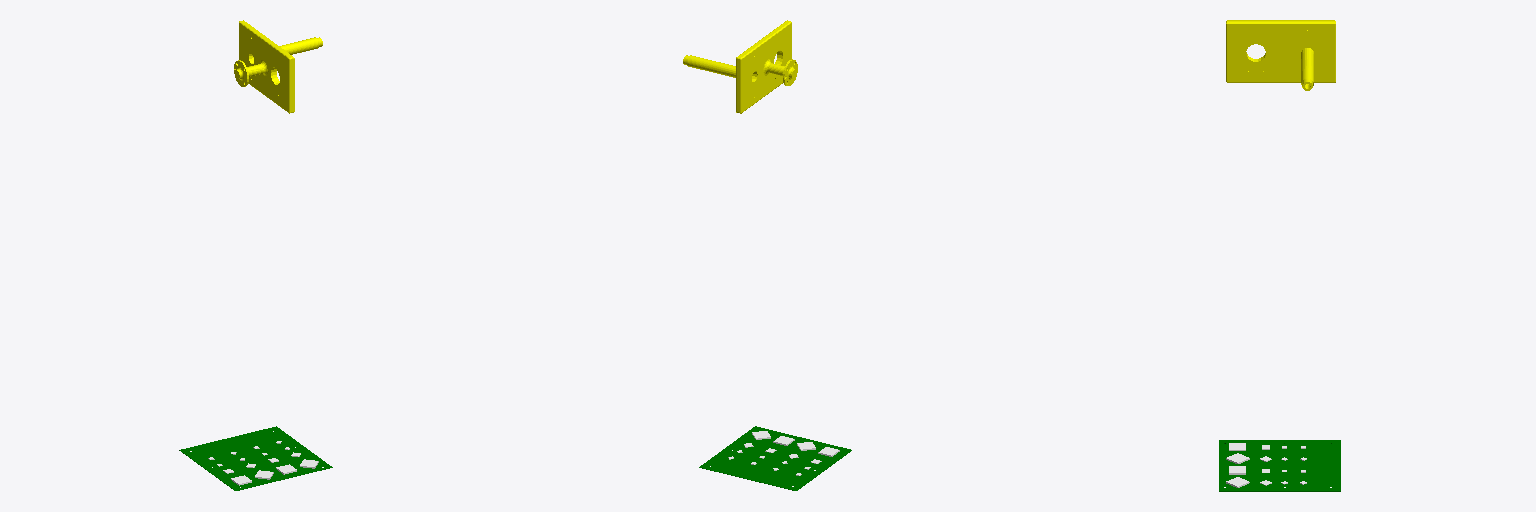
--- Facts derived from the render (not from the file) ---
The picture shows the robot from 3 angles, left to right: view 1: azimuth 30°, elevation 25°; view 2: azimuth 150°, elevation 25°; view 3: azimuth 270°, elevation 25°; orthographic projection.
Model abb_irb120 with 29 links and 28 joints (6 revolute, 22 fixed), rooted at world, posed all joints at 0.
Visible links, largest first — view 1: PCB, end_effector; view 2: PCB, end_effector; view 3: end_effector, PCB.
Link boxes in pixels (x1,y1,x2,y2): PCB: [179, 426, 332, 490]; end_effector: [234, 20, 322, 113]; PCB: [699, 426, 851, 490]; end_effector: [683, 20, 797, 113]; end_effector: [1226, 20, 1335, 90]; PCB: [1219, 440, 1340, 491].
Size in the robot's own frame: 0.2136 by 0.1651 by 0.6744 metres.
Meshes: 26 distinct files referenced, 18 mesh visuals loaded (18 binary STL); not drawn: 8 (reference not matched to a file when rendering).

URDF robot description (abb_irb120):
<?xml version="1.0" ?>
<!-- =================================================================================== -->
<!-- |    This document was autogenerated by xacro from irb120.xacro                   | -->
<!-- |    EDITING THIS FILE BY HAND IS NOT RECOMMENDED                                 | -->
<!-- =================================================================================== -->
<robot name="abb_irb120" xmlns:xacro="http://ros.org/wiki/xacro">
  <!--  <xacro:include filename="$(find irb120_description)/urdf/common_colors.xacro"/> -->
  <!-- Conversion were obtained from http://www.e-paint.co.uk/Lab_values.asp
       unless otherwise stated. -->
  <!-- Actual colors -->
  <!-- NCS 2070-Y60R orange, standard robot color 1974 - May 2014 -->
  <!-- RAL 7035 light grey (abb graphite white), standard robot color May 2014 - current -->
  <!-- RAL 9003 signal white (abb white), cleanroom robot color -->
  <!-- RAL 7032 pebble gray, controller -->
  <!-- RAL 7012 basalt gray (abb dark gray) , robot primer -->
  <!-- RAL 7021 black gray (abb black) , robot with dark link color -->
  <!-- Other robot colours availble, but not limited too. -->
  <!-- RAL 3001 signal red -->
  <!-- RAL 3002 carmine red -->
  <!-- RAL 5002 ultramarine blue -->
  <!-- RAL 5015 sky blue -->
  <!-- RAL 6002 leaf green -->
  <!-- RAL 9002 gray white -->
  <!-- RAL 9010 pure white -->
  <!-- approximations -->
  <!-- yellow, collision model -->
  <!-- Used for fixing robot to Gazebo 'base_link' -->
  <link name="world"/>
  <joint name="fixed" type="fixed">
    <parent link="world"/>
    <child link="base_link"/>
    <origin rpy="0 0 0" xyz="0 0 0.76"/>
  </joint>
  <!-- Description of base_link -->
  <link name="base_link">
    <inertial>
      <mass value="6.215"/>
      <origin rpy="0 0 0" xyz="0 0 0"/>
      <inertia ixx="0.0247272" ixy="-8.0784E-05" ixz="0.00130902" iyy="0.0491285" iyz="-8.0419E-06" izz="0.0472376"/>
    </inertial>
    <visual>
      <origin rpy="0 0 0" xyz="0 0 0"/>
      <geometry>
        <mesh filename="package://irb120_description/meshes/visual/base_link.stl"/>
      </geometry>
      <material name="">
        <color rgba="0.7372549 0.3490196 0.1607843 1"/>
      </material>
    </visual>
    <collision>
      <origin rpy="0 0 0" xyz="0 0 0"/>
      <geometry>
        <mesh filename="package://irb120_description/meshes/collision/base_link.stl"/>
      </geometry>
      <material name="">
        <color rgba="1 1 0 1"/>
      </material>
    </collision>
  </link>
  <joint name="base_link-Table" type="fixed">
    <parent link="base_link"/>
    <child link="Table"/>
    <origin rpy="0 0 0" xyz="0 0 0"/>
  </joint>
  <link name="Table">
    <inertial>
      <origin rpy="0 0 0" xyz="0 0 -0.06"/>
      <mass value="26.973"/>
      <inertia ixx="1.58867585086805" ixy="7.53875576876204E-16" ixz="-1.555189911135E-16" iyy="-0.00481570948189264" iyz="-3.49190034458366" izz="0.00481570948189306"/>
    </inertial>
    <visual>
      <origin rpy="0 0 0" xyz="0 0 -0.06"/>
      <geometry>
        <mesh filename="package://irb120_description/meshes/visual/Table.STL"/>
      </geometry>
      <material name="">
        <color rgba="0.3450980 0.3647059 0.3686275 1"/>
      </material>
    </visual>
    <collision>
      <origin rpy="1.5707963267949 0 0" xyz="0 0 -0.06"/>
      <geometry>
        <mesh filename="package://irb120_description/meshes/collision/Table.STL"/>
      </geometry>
      <material name="">
        <color rgba="0.5960784 0.1372549 0.1372549 1"/>
      </material>
    </collision>
  </link>
  <joint name="Table-PCB" type="fixed">
    <parent link="Table"/>
    <child link="PCB"/>
    <origin rpy="0 0 0" xyz="0 0 0"/>
  </joint>
  <link name="PCB">
    <inertial>
      <origin rpy="0 0 0" xyz="3.0815E-19 -6.597E-07 -0.00020574"/>
      <mass value="0.011199"/>
      <inertia ixx="2.5416E-05" ixy="-1.4976E-21" ixz="-4.5523E-24" iyy="2.5392E-05" iyz="1.366E-23" izz="5.0808E-05"/>
    </inertial>
    <visual>
      <origin rpy="-1.57079632679 0 0" xyz="0.4 0 0.001"/>
      <geometry>
        <mesh filename="package://irb120_description/meshes/visual/PCB.STL"/>
      </geometry>
      <material name="green">
        <color rgba="0 0.5 0 1"/>
      </material>
    </visual>
    <collision>
      <origin rpy="0 0 0" xyz="0.4 0 0.001"/>
      <geometry>
        <mesh filename="package://irb120_description/meshes/collision/PCB.STL"/>
      </geometry>
    </collision>
  </link>
  <joint name="PCB-BGA_1" type="fixed">
    <parent link="PCB"/>
    <child link="BGA_1"/>
    <origin rpy="0 0 0" xyz="0 0 0"/>
  </joint>
  <link name="BGA_1">
    <inertial>
      <origin rpy="0 0 0" xyz="-0.05715 -0.00124 -0.05715"/>
      <mass value="0.0012696"/>
      <inertia ixx="5.6578E-08" ixy="-1.2683E-24" ixz="-4.2352E-24" iyy="1.1194E-07" iyz="3.3896E-24" izz="5.6578E-08"/>
    </inertial>
    <visual>
      <origin rpy="-1.57079632679 0 0" xyz="0.4 0 0.001"/>
      <geometry>
        <mesh filename="package://irb120_description/meshes/visual/BGA_1.STL"/>
      </geometry>
      <material name="white">
        <color rgba="1 1 1 1"/>
      </material>
    </visual>
    <collision>
      <origin rpy="0 0 0" xyz="0.4 0 0.001"/>
      <geometry>
        <mesh filename="package://irb120_description/meshes/collision/BGA_1.STL"/>
      </geometry>
    </collision>
  </link>
  <joint name="PCB-BGA_2" type="fixed">
    <parent link="PCB"/>
    <child link="BGA_2"/>
    <origin rpy="0 0 0" xyz="0 0 0"/>
  </joint>
  <link name="BGA_2">
    <inertial>
      <origin rpy="0 0 0" xyz="-0.01905 -0.00124 -0.05715"/>
      <mass value="0.0012696"/>
      <inertia ixx="5.6578E-08" ixy="-7.2405E-26" ixz="-2.0814E-22" iyy="1.1194E-07" iyz="2.587E-24" izz="5.6578E-08"/>
    </inertial>
    <visual>
      <origin rpy="-1.57079632679 0 0" xyz="0.4 0 0.001"/>
      <geometry>
        <mesh filename="package://irb120_description/meshes/visual/BGA_2.STL"/>
      </geometry>
      <material name="white">
        <color rgba="1 1 1 1"/>
      </material>
    </visual>
    <collision>
      <origin rpy="0 0 0" xyz="0.4 0 0.001"/>
      <geometry>
        <mesh filename="package://irb120_description/meshes/collision/BGA_2.STL"/>
      </geometry>
    </collision>
  </link>
  <joint name="PCB-BGA_3" type="fixed">
    <parent link="PCB"/>
    <child link="BGA_3"/>
    <origin rpy="0 0 0" xyz="0 0 0"/>
  </joint>
  <link name="BGA_3">
    <inertial>
      <origin rpy="0 0 0" xyz="0.01905 -0.00124 -0.05715"/>
      <mass value="0.0012696"/>
      <inertia ixx="5.6578E-08" ixy="-6.3417E-25" ixz="-6.7719E-24" iyy="1.1194E-07" iyz="3.3896E-24" izz="5.6578E-08"/>
    </inertial>
    <visual>
      <origin rpy="-1.57079632679 0 0" xyz="0.4 0 0.001"/>
      <geometry>
        <mesh filename="package://irb120_description/meshes/visual/BGA_3.STL"/>
      </geometry>
      <material name="white">
        <color rgba="1 1 1 1"/>
      </material>
    </visual>
    <collision>
      <origin rpy="0 0 0" xyz="0.4 0 0.001"/>
      <geometry>
        <mesh filename="package://irb120_description/meshes/collision/BGA_3.STL"/>
      </geometry>
    </collision>
  </link>
  <joint name="PCB-BGA_4" type="fixed">
    <parent link="PCB"/>
    <child link="BGA_4"/>
    <origin rpy="0 0 0" xyz="0 0 0"/>
  </joint>
  <link name="BGA_4">
    <inertial>
      <origin rpy="0 0 0" xyz="0.05715 -0.00124 -0.05715"/>
      <mass value="0.0012696"/>
      <inertia ixx="5.6578E-08" ixy="6.1225E-25" ixz="-2.3237E-22" iyy="1.1194E-07" iyz="2.9474E-24" izz="5.6578E-08"/>
    </inertial>
    <visual>
      <origin rpy="-1.57079632679 0 0" xyz="0.4 0 0.001"/>
      <geometry>
        <mesh filename="package://irb120_description/meshes/visual/BGA_4.STL"/>
      </geometry>
      <material name="white">
        <color rgba="1 1 1 1"/>
      </material>
    </visual>
    <collision>
      <origin rpy="0 0 0" xyz="0.4 0 0.001"/>
      <geometry>
        <mesh filename="package://irb120_description/meshes/collision/BGA_4.STL"/>
      </geometry>
    </collision>
  </link>
  <joint name="PCB-BGA_5" type="fixed">
    <parent link="PCB"/>
    <child link="BGA_5"/>
    <origin rpy="0 0 0" xyz="0 0 0"/>
  </joint>
  <link name="BGA_5">
    <inertial>
      <origin rpy="0 0 0" xyz="-0.05715 -0.01905 0.00068"/>
      <mass value="0.00014976"/>
      <inertia ixx="1.8106E-09" ixy="3.4411E-25" ixz="0" iyy="1.8106E-09" iyz="0" izz="3.5942E-09"/>
    </inertial>
    <visual>
      <origin rpy="-1.57079632679 0 0" xyz="0.4 0 0.001"/>
      <geometry>
        <mesh filename="package://irb120_description/meshes/visual/BGA_5.STL"/>
      </geometry>
      <material name="white">
        <color rgba="1 1 1 1"/>
      </material>
    </visual>
    <collision>
      <origin rpy="-1.57079632679 0 0" xyz="0.4 0 0.001"/>
      <geometry>
        <mesh filename="package://irb120_description/meshes/collision/BGA_5.STL"/>
      </geometry>
    </collision>
  </link>
  <joint name="PCB-BGA_6" type="fixed">
    <parent link="PCB"/>
    <child link="BGA_6"/>
    <origin rpy="0 0 0" xyz="0 0 0"/>
  </joint>
  <link name="BGA_6">
    <inertial>
      <origin rpy="0 0 0" xyz="-0.01905 -0.00068 -0.01905"/>
      <mass value="0.00014976"/>
      <inertia ixx="1.8106E-09" ixy="-2.0002E-27" ixz="-1.767E-25" iyy="3.5942E-09" iyz="1.1783E-25" izz="1.8106E-09"/>
    </inertial>
    <visual>
      <origin rpy="-1.57079632679 0 0" xyz="0.4 0 0.001"/>
      <geometry>
        <mesh filename="package://irb120_description/meshes/visual/BGA_6.STL"/>
      </geometry>
      <material name="white">
        <color rgba="1 1 1 1"/>
      </material>
    </visual>
    <collision>
      <origin rpy="-1.57079632679 0 0" xyz="0.4 0 0.001"/>
      <geometry>
        <mesh filename="package://irb120_description/meshes/collision/BGA_6.STL"/>
      </geometry>
    </collision>
  </link>
  <joint name="PCB-BGA_7" type="fixed">
    <parent link="PCB"/>
    <child link="BGA_7"/>
    <origin rpy="0 0 0" xyz="0 0 0"/>
  </joint>
  <link name="BGA_7">
    <inertial>
      <origin rpy="0 0 0" xyz="0.01905 -0.00068 -0.01905"/>
      <mass value="0.00014976"/>
      <inertia ixx="1.8106E-09" ixy="7.0233E-42" ixz="1.147E-25" iyy="3.5942E-09" iyz="1.0921E-25" izz="1.8106E-09"/>
    </inertial>
    <visual>
      <origin rpy="-1.57079632679 0 0" xyz="0.4 0 0.001"/>
      <geometry>
        <mesh filename="package://irb120_description/meshes/visual/BGA_7.STL"/>
      </geometry>
      <material name="white">
        <color rgba="1 1 1 1"/>
      </material>
    </visual>
    <collision>
      <origin rpy="-1.57079632679 0 0" xyz="0.4 0 0.001"/>
      <geometry>
        <mesh filename="package://irb120_description/meshes/collision/BGA_7.STL"/>
      </geometry>
    </collision>
  </link>
  <joint name="PCB-BGA_8" type="fixed">
    <parent link="PCB"/>
    <child link="BGA_8"/>
    <origin rpy="0 0 0" xyz="0 0 0"/>
  </joint>
  <link name="BGA_8">
    <inertial>
      <origin rpy="0 0 0" xyz="0.05715 -0.00068 -0.01905"/>
      <mass value="0.00014976"/>
      <inertia ixx="1.8106E-09" ixy="5.8884E-27" ixz="7.3206E-25" iyy="3.5942E-09" iyz="1.1783E-25" izz="1.8106E-09"/>
    </inertial>
    <visual>
      <origin rpy="-1.57079632679 0 0" xyz="0.4 0 0.001"/>
      <geometry>
        <mesh filename="package://irb120_description/meshes/visual/BGA_8.STL"/>
      </geometry>
      <material name="white">
        <color rgba="1 1 1 1"/>
      </material>
    </visual>
    <collision>
      <origin rpy="-1.57079632679 0 0" xyz="0.4 0 0.001"/>
      <geometry>
        <mesh filename="package://irb120_description/meshes/collision/BGA_8.STL"/>
      </geometry>
    </collision>
  </link>
  <joint name="PCB-BGA_9" type="fixed">
    <parent link="PCB"/>
    <child link="BGA_9"/>
    <origin rpy="0 0 0" xyz="0 0 0"/>
  </joint>
  <link name="BGA_9">
    <inertial>
      <origin rpy="0 0 0" xyz="-0.057151 -0.00063064 0.0063493"/>
      <mass value="3.7062E-05"/>
      <inertia ixx="1.5631E-10" ixy="-4.6839E-15" ixz="5.8399E-14" iyy="3.0916E-10" iyz="-4.4908E-15" izz="1.563E-10"/>
    </inertial>
    <visual>
      <origin rpy="-1.57079632679 0 0" xyz="0.4 0 0.001"/>
      <geometry>
        <mesh filename="package://irb120_description/meshes/visual/BGA_9.STL"/>
      </geometry>
      <material name="white">
        <color rgba="1 1 1 1"/>
      </material>
    </visual>
    <collision>
      <origin rpy="-1.57079632679 0 0" xyz="0.4 0 0.001"/>
      <geometry>
        <mesh filename="package://irb120_description/meshes/collision/BGA_9.STL"/>
      </geometry>
    </collision>
  </link>
  <joint name="PCB-BGA_10" type="fixed">
    <parent link="PCB"/>
    <child link="BGA_10"/>
    <origin rpy="0 0 0" xyz="0 0 0"/>
  </joint>
  <link name="BGA_10">
    <inertial>
      <origin rpy="0 0 0" xyz="-0.01905 -0.00063064 0.0063489"/>
      <mass value="3.7062E-05"/>
      <inertia ixx="1.5636E-10" ixy="-1.3834E-16" ixz="-6.9721E-16" iyy="3.0916E-10" iyz="-6.4853E-15" izz="1.5625E-10"/>
    </inertial>
    <visual>
      <origin rpy="-1.57079632679 0 0" xyz="0.4 0 0.001"/>
      <geometry>
        <mesh filename="package://irb120_description/meshes/visual/BGA_10.STL"/>
      </geometry>
      <material name="white">
        <color rgba="1 1 1 1"/>
      </material>
    </visual>
    <collision>
      <origin rpy="-1.57079632679 0 0" xyz="0.4 0 0.001"/>
      <geometry>
        <mesh filename="package://irb120_description/meshes/collision/BGA_10.STL"/>
      </geometry>
    </collision>
  </link>
  <joint name="PCB-BGA_11" type="fixed">
    <parent link="PCB"/>
    <child link="BGA_11"/>
    <origin rpy="0 0 0" xyz="0 0 0"/>
  </joint>
  <link name="BGA_11">
    <inertial>
      <origin rpy="0 0 0" xyz="0.019051 -0.00063064 0.0063491"/>
      <mass value="3.7062E-05"/>
      <inertia ixx="1.563E-10" ixy="4.4908E-15" ixz="-5.8399E-14" iyy="3.0916E-10" iyz="-4.6839E-15" izz="1.5631E-10"/>
    </inertial>
    <visual>
      <origin rpy="-1.57079632679 0 0" xyz="0.4 0 0.001"/>
      <geometry>
        <mesh filename="package://irb120_description/meshes/visual/BGA_11.STL"/>
      </geometry>
      <material name="white">
        <color rgba="1 1 1 1"/>
      </material>
    </visual>
    <collision>
      <origin rpy="-1.57079632679 0 0" xyz="0.4 0 0.001"/>
      <geometry>
        <mesh filename="package://irb120_description/meshes/collision/BGA_11.STL"/>
      </geometry>
    </collision>
  </link>
  <joint name="PCB-BGA_12" type="fixed">
    <parent link="PCB"/>
    <child link="BGA_12"/>
    <origin rpy="0 0 0" xyz="0 0 0"/>
  </joint>
  <link name="BGA_12">
    <inertial>
      <origin rpy="0 0 0" xyz="0.05715 -0.00063064 0.0063489"/>
      <mass value="3.7062E-05"/>
      <inertia ixx="1.5636E-10" ixy="-1.3834E-16" ixz="-6.9721E-16" iyy="3.0916E-10" iyz="-6.4853E-15" izz="1.5625E-10"/>
    </inertial>
    <visual>
      <origin rpy="-1.57079632679 0 0" xyz="0.4 0 0.001"/>
      <geometry>
        <mesh filename="package://irb120_description/meshes/visual/BGA_12.STL"/>
      </geometry>
      <material name="white">
        <color rgba="1 1 1 1"/>
      </material>
    </visual>
    <collision>
      <origin rpy="-1.57079632679 0 0" xyz="0.4 0 0.001"/>
      <geometry>
        <mesh filename="package://irb120_description/meshes/collision/BGA_12.STL"/>
      </geometry>
    </collision>
  </link>
  <joint name="PCB-BGA_13" type="fixed">
    <parent link="PCB"/>
    <child link="BGA_13"/>
    <origin rpy="0 0 0" xyz="0 0 0"/>
  </joint>
  <link name="BGA_13">
    <inertial>
      <origin rpy="0 0 0" xyz="-0.05715 -0.0006 0.03175"/>
      <mass value="5.88E-05"/>
      <inertia ixx="2.4716E-10" ixy="-3.0158E-27" ixz="-1.6544E-26" iyy="4.802E-10" iyz="1.7285E-26" izz="2.4716E-10"/>
    </inertial>
    <visual>
      <origin rpy="-1.57079632679 0 0" xyz="0.4 0 0.001"/>
      <geometry>
        <mesh filename="package://irb120_description/meshes/visual/BGA_13.STL"/>
      </geometry>
      <material name="white">
        <color rgba="1 1 1 1"/>
      </material>
    </visual>
    <collision>
      <origin rpy="0 0 0" xyz="0.4 0 0.001"/>
      <geometry>
        <mesh filename="package://irb120_description/meshes/collision/BGA_13.STL"/>
      </geometry>
    </collision>
  </link>
  <joint name="PCB-BGA_14" type="fixed">
    <parent link="PCB"/>
    <child link="BGA_14"/>
    <origin rpy="0 0 0.001" xyz="0 0 0"/>
  </joint>
  <link name="BGA_14">
    <inertial>
      <origin rpy="0 0 0" xyz="-0.01905 -0.0006 0.03175"/>
      <mass value="5.88E-05"/>
      <inertia ixx="2.4716E-10" ixy="7.4522E-27" ixz="9.4663E-27" iyy="4.802E-10" iyz="3.6443E-27" izz="2.4716E-10"/>
    </inertial>
    <visual>
      <origin rpy="-1.57079632679 0 0" xyz="0.4 0 0.001"/>
      <geometry>
        <mesh filename="package://irb120_description/meshes/visual/BGA_14.STL"/>
      </geometry>
      <material name="white">
        <color rgba="1 1 1 1"/>
      </material>
    </visual>
    <collision>
      <origin rpy="-1.57079632679 0 0" xyz="0.4 0 0.001"/>
      <geometry>
        <mesh filename="package://irb120_description/meshes/collision/BGA_14.STL"/>
      </geometry>
    </collision>
  </link>
  <joint name="PCB-BGA_15" type="fixed">
    <parent link="PCB"/>
    <child link="BGA_15"/>
    <origin rpy="0 0 0" xyz="0 0 0"/>
  </joint>
  <link name="BGA_15">
    <inertial>
      <origin rpy="0 0 0" xyz="0.01905 -0.0006 0.03175"/>
      <mass value="5.88E-05"/>
      <inertia ixx="2.4716E-10" ixy="-3.0158E-27" ixz="-1.6544E-26" iyy="4.802E-10" iyz="1.7285E-26" izz="2.4716E-10"/>
    </inertial>
    <visual>
      <origin rpy="-1.57079632679 0 0" xyz="0.4 0 0.001"/>
      <geometry>
        <mesh filename="package://irb120_description/meshes/visual/BGA_15.STL"/>
      </geometry>
      <material name="white">
        <color rgba="1 1 1 1"/>
      </material>
    </visual>
    <collision>
      <origin rpy="-1.57079632679 0 0" xyz="0.4 0 0.001"/>
      <geometry>
        <mesh filename="package://irb120_description/meshes/collision/BGA_15.STL"/>
      </geometry>
    </collision>
  </link>
  <joint name="PCB-BGA_16" type="fixed">
    <parent link="PCB"/>
    <child link="BGA_16"/>
    <origin rpy="0 0 0" xyz="0 0 0"/>
  </joint>
  <link name="BGA_16">
    <inertial>
      <origin rpy="0 0 0" xyz="0.05715 -0.0006 0.03175"/>
      <mass value="5.88E-05"/>
      <inertia ixx="2.4716E-10" ixy="4.7948E-27" ixz="3.1554E-27" iyy="4.802E-10" iyz="5.1522E-27" izz="2.4716E-10"/>
    </inertial>
    <visual>
      <origin rpy="-1.57079632679 0 0" xyz="0.4 0 0.001"/>
      <geometry>
        <mesh filename="package://irb120_description/meshes/visual/BGA_16.STL"/>
      </geometry>
      <material name="white">
        <color rgba="1 1 1 1"/>
      </material>
    </visual>
    <collision>
      <origin rpy="-1.57079632679 0 0" xyz="0.4 0 0.001"/>
      <geometry>
        <mesh filename="package://irb120_description/meshes/collision/BGA_16.STL"/>
      </geometry>
    </collision>
  </link>
  <!-- Joint - 1 -->
  <joint name="joint_1" type="revolute">
    <origin rpy="0 0 0" xyz="0 0 0"/>
    <parent link="base_link"/>
    <child link="link_1"/>
    <limit effort="20" lower="-2.87979" upper="2.87979" velocity="4.36332"/>
    <axis xyz="0 0 1"/>
    <dynamics damping="1" friction="0"/>
  </joint>
  <!-- Description of link - 1 -->
  <link name="link_1">
    <inertial>
      <mass value="3.067"/>
      <origin rpy="0 0 0" xyz="0 0 0.23841"/>
      <inertia ixx="0.0142175" ixy="-1.28579E-05" ixz="-2.31364E-05" iyy="0.0144041" iyz="1.93404E-05" izz="0.0104533"/>
    </inertial>
    <visual>
      <origin rpy="0 0 0" xyz="0 0 0"/>
      <geometry>
        <mesh filename="package://irb120_description/meshes/visual/link_1.stl"/>
      </geometry>
      <material name="">
        <color rgba="0.7372549 0.3490196 0.1607843 1"/>
      </material>
    </visual>
    <collision>
      <origin rpy="0 0 0" xyz="0 0 0"/>
      <geometry>
        <mesh filename="package://irb120_description/meshes/collision/link_1.stl"/>
      </geometry>
      <material name="">
        <color rgba="1 1 0 1"/>
      </material>
    </collision>
  </link>
  <!-- Joint - 2 -->
  <joint name="joint_2" type="revolute">
    <origin rpy="0 0 0" xyz="0 0 0.29"/>
    <parent link="link_1"/>
    <child link="link_2"/>
    <limit effort="20" lower="-1.91986" upper="1.91986" velocity="4.36332"/>
    <axis xyz="0 1 0"/>
    <dynamics damping="1" friction="0"/>
  </joint>
  <!-- Description of link - 2 -->
  <link name="link_2">
    <inertial>
      <mass value="3.909"/>
      <origin rpy="0 0 0" xyz="0.00078 -0.00212 0.10124"/>
      <inertia ixx="0.0603111" ixy="9.83431E-06" ixz="5.72407E-05" iyy="0.041569" iyz="-0.00050497" izz="0.0259548"/>
    </inertial>
    <visual>
      <origin rpy="0 0 0" xyz="0 0 0"/>
      <geometry>
        <mesh filename="package://irb120_description/meshes/visual/link_2.stl"/>
      </geometry>
      <material name="">
        <color rgba="0.7372549 0.3490196 0.1607843 1"/>
      </material>
    </visual>
    <collision>
      <origin rpy="0 0 0" xyz="0 0 0"/>
      <geometry>
        <mesh filename="package://irb120_description/meshes/collision/link_2.stl"/>
      </geometry>
      <material name="">
        <color rgba="1 1 0 1"/>
      </material>
    </collision>
  </link>
  <!-- Joint - 3 -->
  <joint name="joint_3" type="revolute">
    <origin rpy="0 0 0" xyz="0 0 0.27"/>
    <parent link="link_2"/>
    <child link="link_3"/>
    <limit effort="20" lower="-1.91986" upper="1.22173" velocity="4.36332"/>
    <axis xyz="0 1 0"/>
    <dynamics damping="0.7" friction="0.2"/>
  </joint>
  <!-- Description of link - 3 -->
  <link name="link_3">
    <inertial>
      <mass value="2.944"/>
      <origin rpy="0 0 0" xyz="0.02281 0.00106 0.05791"/>
      <inertia ixx="0.00835606" ixy="-8.01545E-05" ixz="0.00142884" iyy="0.016713" iyz="-0.000182227" izz="0.0126984"/>
    </inertial>
    <visual>
      <origin rpy="0 0 0" xyz="0 0 0"/>
      <geometry>
        <mesh filename="package://irb120_description/meshes/visual/link_3.stl"/>
      </geometry>
      <material name="">
        <color rgba="0.7372549 0.3490196 0.1607843 1"/>
      </material>
    </visual>
    <collision>
      <origin rpy="0 0 0" xyz="0 0 0"/>
      <geometry>
        <mesh filename="package://irb120_description/meshes/collision/link_3.stl"/>
      </geometry>
      <material name="">
        <color rgba="1 1 0 1"/>
      </material>
    </collision>
  </link>
  <!-- Joint - 4 -->
  <joint name="joint_4" type="revolute">
    <origin rpy="0 0 0" xyz="0 0 0.07"/>
    <parent link="link_3"/>
    <child link="link_4"/>
    <limit effort="20" lower="-2.79253" upper="2.79253" velocity="5.58505"/>
    <axis xyz="1 0 0"/>
    <dynamics damping="0.7" friction="0.2"/>
  </joint>
  <!--  Description of link - 4 -->
  <link name="link_4">
    <inertial>
      <mass value="1.328"/>
      <origin rpy="0 0 0" xyz="0.2247 0.00015 0.00041"/>
      <inertia ixx="0.00284661" ixy="-2.12765E-05" ixz="-1.6435E-05" iyy="0.00401346" iyz="1.31336E-05" izz="0.0052535"/>
    </inertial>
    <visual>
      <origin rpy="0 0 0" xyz="0 0 0"/>
      <geometry>
        <mesh filename="package://irb120_description/meshes/visual/link_4.stl"/>
      </geometry>
      <material name="">
        <color rgba="0.7372549 0.3490196 0.1607843 1"/>
      </material>
    </visual>
    <collision>
      <origin rpy="0 0 0" xyz="0 0 0"/>
      <geometry>
        <mesh filename="package://irb120_description/meshes/collision/link_4.stl"/>
      </geometry>
      <material name="">
        <color rgba="1 1 0 1"/>
      </material>
    </collision>
  </link>
  <!-- Joint - 5 -->
  <joint name="joint_5" type="revolute">
    <origin rpy="0 0 0" xyz="0.302 0 0"/>
    <parent link="link_4"/>
    <child link="link_5"/>
    <limit effort="20" lower="-2.094395" upper="2.094395" velocity="5.58505"/>
    <axis xyz="0 1 0"/>
    <dynamics damping="0.7" friction="0.2"/>
  </joint>
  <!-- Description of link - 5-->
  <link name="link_5">
    <inertial>
      <mass value="0.546"/>
      <origin rpy="0 0 0" xyz="-0.00109 3.68E-05 6.22E-05"/>
      <inertia ixx="0.000404891" ixy="1.61943E-06" ixz="8.46805E-07" iyy="0.000892825" iyz="-1.51792E-08" izz="0.000815468"/>
    </inertial>
    <visual>
      <origin rpy="0 0 0" xyz="0 0 0"/>
      <geometry>
        <mesh filename="package://irb120_description/meshes/visual/link_5.stl"/>
      </geometry>
      <material name="">
        <color rgba="0.7372549 0.3490196 0.1607843 1"/>
      </material>
    </visual>
    <collision>
      <origin rpy="0 0 0" xyz="0 0 0"/>
      <geometry>
        <mesh filename="package://irb120_description/meshes/collision/link_5.stl"/>
      </geometry>
      <material name="">
        <color rgba="1 1 0 1"/>
      </material>
    </collision>
  </link>
  <!-- Joint - 6 -->
  <joint name="joint_6" type="revolute">
    <origin rpy="0 0 0" xyz="0.072 0 0"/>
    <parent link="link_5"/>
    <child link="link_6"/>
    <limit effort="20" lower="-6.98132" upper="6.98132" velocity="7.33038"/>
    <axis xyz="1 0 0"/>
    <dynamics damping="0.7" friction="0.2"/>
  </joint>
  <!-- Description of link - 6 -->
  <link name="link_6">
    <inertial>
      <mass value="0.137"/>
      <origin rpy="0 0 0" xyz="-0.00706 -0.00017 -1.32E-06"/>
      <inertia ixx="0.001" ixy="0" ixz="0" iyy="0.001" iyz="0" izz="0.001"/>
    </inertial>
    <visual>
      <origin rpy="0 0 0" xyz="0 0 0"/>
      <geometry>
        <mesh filename="package://irb120_description/meshes/visual/link_6.stl"/>
      </geometry>
      <material name="">
        <color rgba="0.1882353 0.1960784 0.2039216 1"/>
      </material>
    </visual>
    <collision>
      <origin rpy="0 0 0" xyz="0 0 0"/>
      <geometry>
        <mesh filename="package://irb120_description/meshes/collision/link_6.stl"/>
      </geometry>
      <material name="">
        <color rgba="1 1 0 1"/>
      </material>
    </collision>
  </link>
  <!-- joint - 6 ___ end_effector -->
  <joint name="joint6-end_effector" type="fixed">
    <parent link="link_6"/>
    <child link="end_effector"/>
    <origin rpy="0 0 0" xyz="0 0 0"/>
  </joint>
  <!-- Description of end_effector -->
  <link name="end_effector">
    <inertial>
      <origin rpy="-1.57079632679 0 1.57079632679" xyz="0 0 0"/>
      <mass value="0.013866"/>
      <inertia ixx="5.03881484019862E-06" ixy="-1.04903875807579E-22" ixz="-4.65181001996142E-07" iyy="2.47955280107711E-22" iyz="-3.73495091382511E-06" izz="3.98009823013222E-22"/>
    </inertial>
    <visual>
      <origin rpy="-1.57079632679 0 1.57079632679" xyz="0 0 0"/>
      <geometry>
        <mesh filename="package://irb120_description/meshes/visual/EndEffector.SLDPRT.STL"/>
      </geometry>
      <material name="">
        <color rgba="1 1 0 1"/>
      </material>
    </visual>
    <collision>
      <origin rpy="-1.57079632679 0 1.57079632679" xyz="0 0 0"/>
      <geometry>
        <mesh filename="package://irb120_description/meshes/collision/EndEffector.SLDPRT.STL"/>
      </geometry>
      <material name="">
        <color rgba="0.5960784 0.1333333 0.1333333 1"/>
      </material>
    </collision>
  </link>
  <!-- end_effector ____ end_frame -->
  <joint name="end_effector-endframe" type="fixed">
    <parent link="end_effector"/>
    <child link="end_frame"/>
    <origin rpy="0 0 0" xyz="0.068 -0.01 0"/>
  </joint>
  <!-- Description of end_frame -->
  <link name="end_frame"/>
  <!-- end_effector ____ camera_frame -->
  <joint name="end_effector-cameraframe" type="fixed">
    <parent link="end_effector"/>
    <child link="camera_frame"/>
    <origin rpy="0 0 0" xyz="0.043 0.225 0"/>
  </joint>
  <!-- Description of camera_frame -->
  <link name="camera_frame"/>
  <transmission name="tran1">
    <type>transmission_interface/SimpleTransmission</type>
    <joint name="joint_1">
      <hardwareInterface>EffortJointInterface</hardwareInterface>
    </joint>
    <actuator name="motor1">
      <hardwareInterface>EffortJointInterface</hardwareInterface>
      <mechanicalReduction>1</mechanicalReduction>
    </actuator>
  </transmission>
  <transmission name="tran2">
    <type>transmission_interface/SimpleTransmission</type>
    <joint name="joint_2">
      <hardwareInterface>EffortJointInterface</hardwareInterface>
    </joint>
    <actuator name="motor2">
      <hardwareInterface>EffortJointInterface</hardwareInterface>
      <mechanicalReduction>1</mechanicalReduction>
    </actuator>
  </transmission>
  <transmission name="tran3">
    <type>transmission_interface/SimpleTransmission</type>
    <joint name="joint_3">
      <hardwareInterface>EffortJointInterface</hardwareInterface>
    </joint>
    <actuator name="motor3">
      <hardwareInterface>EffortJointInterface</hardwareInterface>
      <mechanicalReduction>1</mechanicalReduction>
    </actuator>
  </transmission>
  <transmission name="tran4">
    <type>transmission_interface/SimpleTransmission</type>
    <joint name="joint_4">
      <hardwareInterface>EffortJointInterface</hardwareInterface>
    </joint>
    <actuator name="motor4">
      <hardwareInterface>EffortJointInterface</hardwareInterface>
      <mechanicalReduction>1</mechanicalReduction>
    </actuator>
  </transmission>
  <transmission name="tran5">
    <type>transmission_interface/SimpleTransmission</type>
    <joint name="joint_5">
      <hardwareInterface>EffortJointInterface</hardwareInterface>
    </joint>
    <actuator name="motor5">
      <hardwareInterface>EffortJointInterface</hardwareInterface>
      <mechanicalReduction>1</mechanicalReduction>
    </actuator>
  </transmission>
  <transmission name="tran6">
    <type>transmission_interface/SimpleTransmission</type>
    <joint name="joint_6">
      <hardwareInterface>EffortJointInterface</hardwareInterface>
    </joint>
    <actuator name="motor6">
      <hardwareInterface>EffortJointInterface</hardwareInterface>
      <mechanicalReduction>1</mechanicalReduction>
    </actuator>
  </transmission>
  <!-- Gazebo-specific link properties -->
  <gazebo reference="base_link">
    <material>Gazebo/Orange</material>
    <turnGravityOff>true</turnGravityOff>
  </gazebo>
  <gazebo reference="link_1">
    <material>Gazebo/Orange</material>
    <turnGravityOff>true</turnGravityOff>
  </gazebo>
  <gazebo reference="link_2">
    <material>Gazebo/Orange</material>
    <turnGravityOff>true</turnGravityOff>
  </gazebo>
  <gazebo reference="link_3">
    <material>Gazebo/Orange</material>
    <turnGravityOff>true</turnGravityOff>
  </gazebo>
  <gazebo reference="link_4">
    <material>Gazebo/Orange</material>
    <turnGravityOff>true</turnGravityOff>
  </gazebo>
  <gazebo reference="link_5">
    <material>Gazebo/Orange</material>
    <turnGravityOff>true</turnGravityOff>
  </gazebo>
  <gazebo reference="link_6">
    <material>Gazebo/Black</material>
    <turnGravityOff>true</turnGravityOff>
  </gazebo>
  <gazebo reference="Table">
    <material>Gazebo/WoodPallet</material>
    <turnGravityOff>true</turnGravityOff>
  </gazebo>
  <gazebo reference="PCB">
    <material>Gazebo/Green</material>
    <turnGravityOff>true</turnGravityOff>
  </gazebo>
  <gazebo reference="BGA_1">
    <material>Gazebo/White</material>
    <turnGravityOff>true</turnGravityOff>
  </gazebo>
  <gazebo reference="BGA_2">
    <material>Gazebo/White</material>
    <turnGravityOff>true</turnGravityOff>
  </gazebo>
  <gazebo reference="BGA_3">
    <material>Gazebo/White</material>
    <turnGravityOff>true</turnGravityOff>
  </gazebo>
  <gazebo reference="BGA_4">
    <material>Gazebo/White</material>
    <turnGravityOff>true</turnGravityOff>
  </gazebo>
  <gazebo reference="BGA_5">
    <material>Gazebo/White</material>
    <turnGravityOff>true</turnGravityOff>
  </gazebo>
  <gazebo reference="BGA_6">
    <material>Gazebo/White</material>
    <turnGravityOff>true</turnGravityOff>
  </gazebo>
  <gazebo reference="BGA_7">
    <material>Gazebo/White</material>
    <turnGravityOff>true</turnGravityOff>
  </gazebo>
  <gazebo reference="BGA_8">
    <material>Gazebo/White</material>
    <turnGravityOff>true</turnGravityOff>
  </gazebo>
  <gazebo reference="BGA_9">
    <material>Gazebo/White</material>
    <turnGravityOff>true</turnGravityOff>
  </gazebo>
  <gazebo reference="BGA_10">
    <material>Gazebo/White</material>
    <turnGravityOff>true</turnGravityOff>
  </gazebo>
  <gazebo reference="BGA_11">
    <material>Gazebo/White</material>
    <turnGravityOff>true</turnGravityOff>
  </gazebo>
  <gazebo reference="BGA_12">
    <material>Gazebo/White</material>
    <turnGravityOff>true</turnGravityOff>
  </gazebo>
  <gazebo reference="BGA_13">
    <material>Gazebo/White</material>
    <turnGravityOff>true</turnGravityOff>
  </gazebo>
  <gazebo reference="BGA_14">
    <material>Gazebo/White</material>
    <turnGravityOff>true</turnGravityOff>
  </gazebo>
  <gazebo reference="BGA_15">
    <material>Gazebo/White</material>
    <turnGravityOff>true</turnGravityOff>
  </gazebo>
  <gazebo reference="BGA_16">
    <material>Gazebo/White</material>
    <turnGravityOff>true</turnGravityOff>
  </gazebo>
  <gazebo reference="end_effector">
    <material>Gazebo/Yellow</material>
    <turnGravityOff>true</turnGravityOff>
  </gazebo>
  <!-- ros_control plugin -->
  <gazebo>
    <plugin filename="libgazebo_ros_control.so" name="gazebo_ros_control">
      <robotNamespace>/irb120</robotNamespace>
      <robotSimType>gazebo_ros_control/DefaultRobotHWSim</robotSimType>
    </plugin>
  </gazebo>
</robot>
